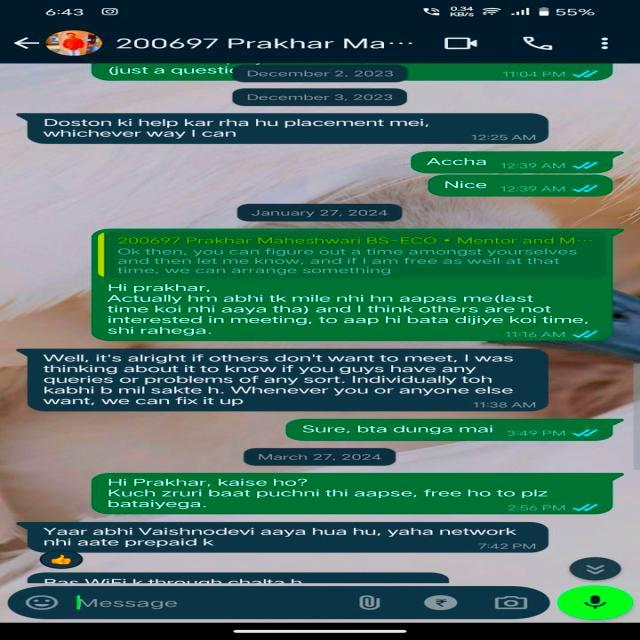scam: (25, 348, 552, 412), (28, 520, 550, 554), (26, 113, 550, 145), (30, 572, 442, 586)
